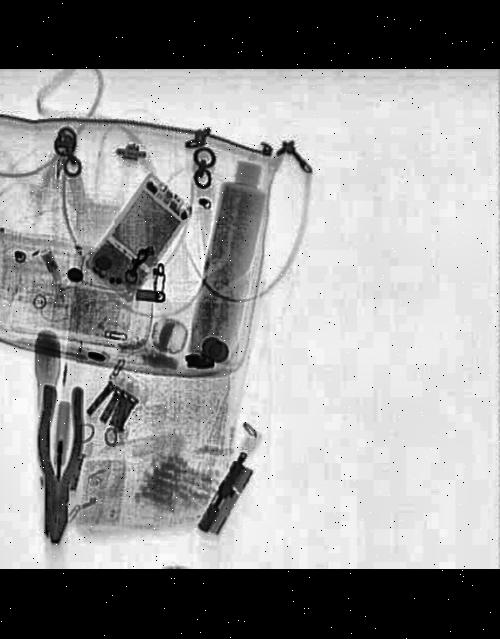Pliers: (31, 384, 88, 544)
